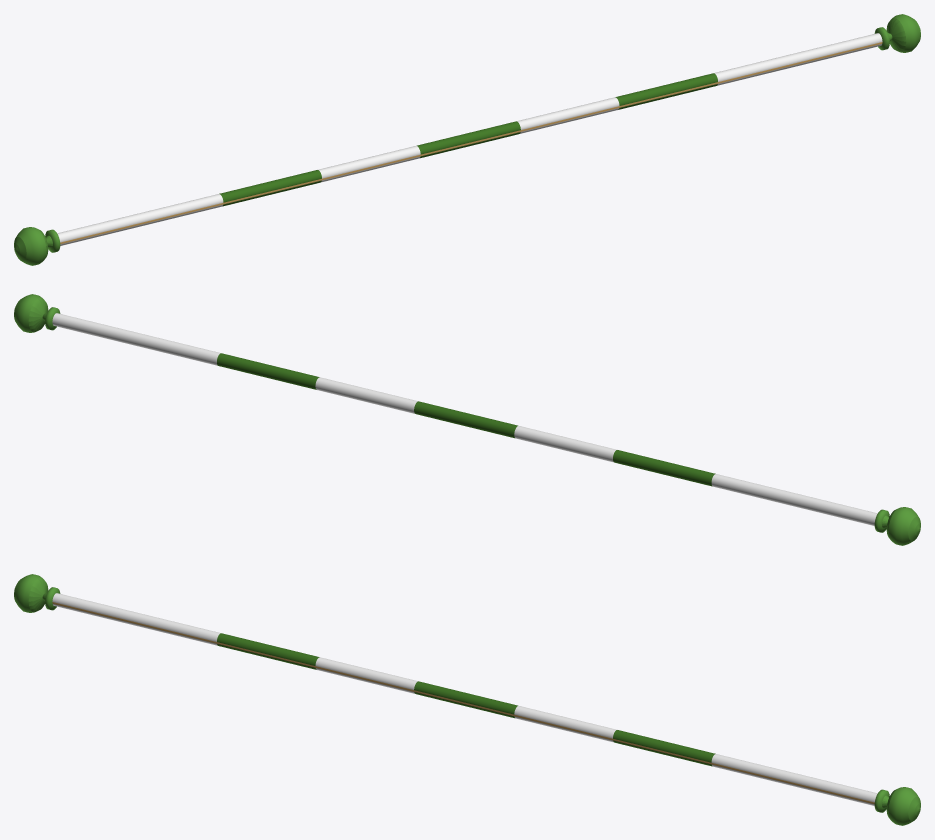
The model's file is NormalStick.fbx.
The picture shows the model from 3 angles, top to bottom: view 1: azimuth 30°, elevation 25°; view 2: azimuth 150°, elevation 25°; view 3: azimuth 330°, elevation 25°; orthographic projection.
Parts seen in each view (by area): view 1: pCylinder17; view 2: pCylinder17; view 3: pCylinder17.
Boxes of the visible parts, bbox=[...] form: pCylinder17: bbox=[14, 14, 920, 265]; pCylinder17: bbox=[14, 294, 920, 545]; pCylinder17: bbox=[14, 574, 920, 825].
Bounding box in the file's own units: 24032 × 897 × 897.
